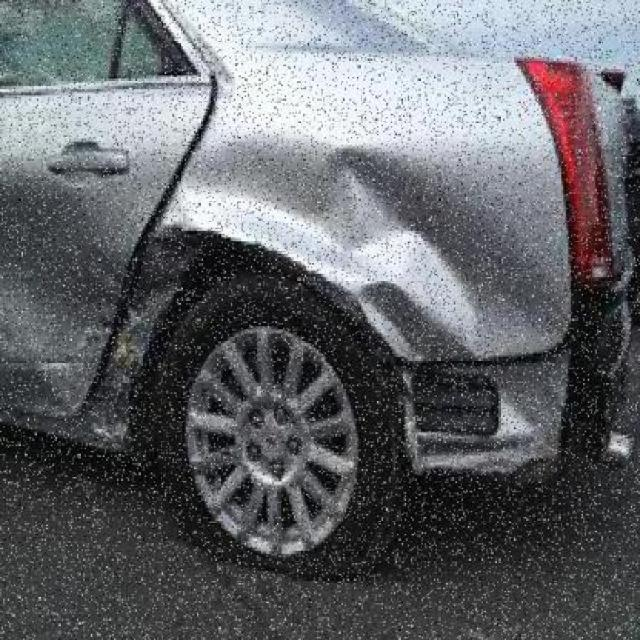doorouter-dent: (0, 79, 121, 409)
quaterpanel-dent: (211, 73, 557, 373), (137, 228, 300, 424)
